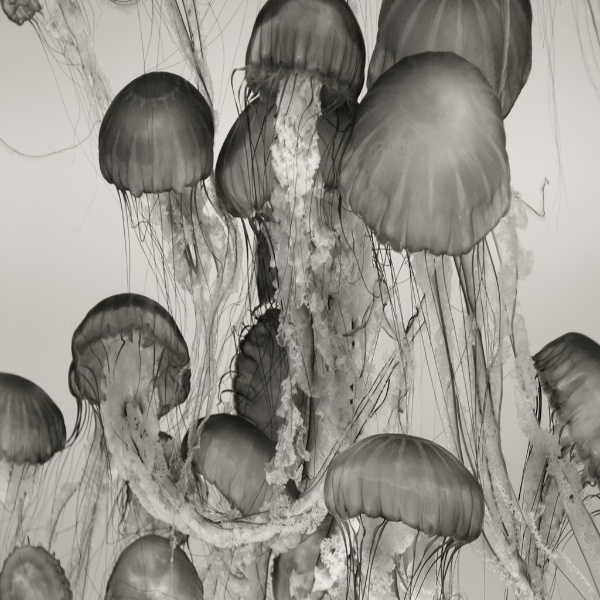Jellyfish: (0, 0, 599, 599), (95, 69, 245, 467)
